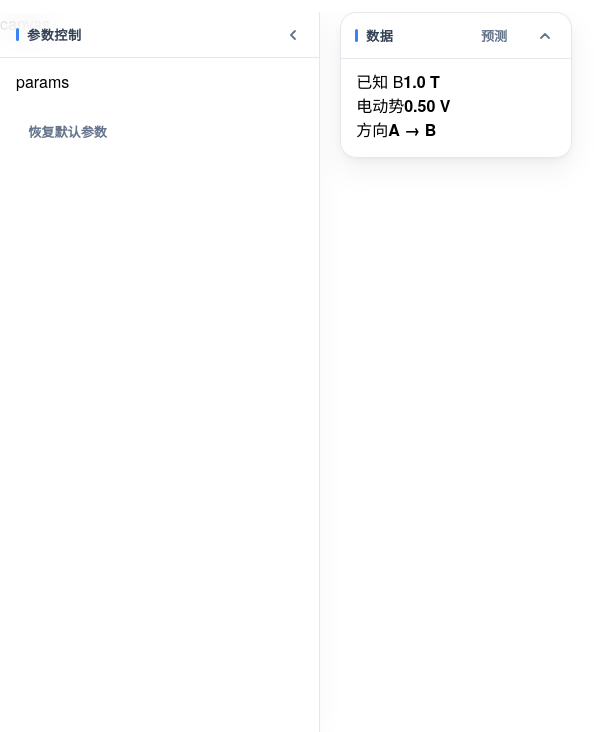
SceneLayout prediction mode › masks answers, reveals one on click and all on 全部揭晓, and masks again next round
This screenshot has width=604, height=732.
Expected: the text "0.50 V" is shown, [404,94,450,117]
Click the button "预测" at (494, 36), box [469,14,519,58]
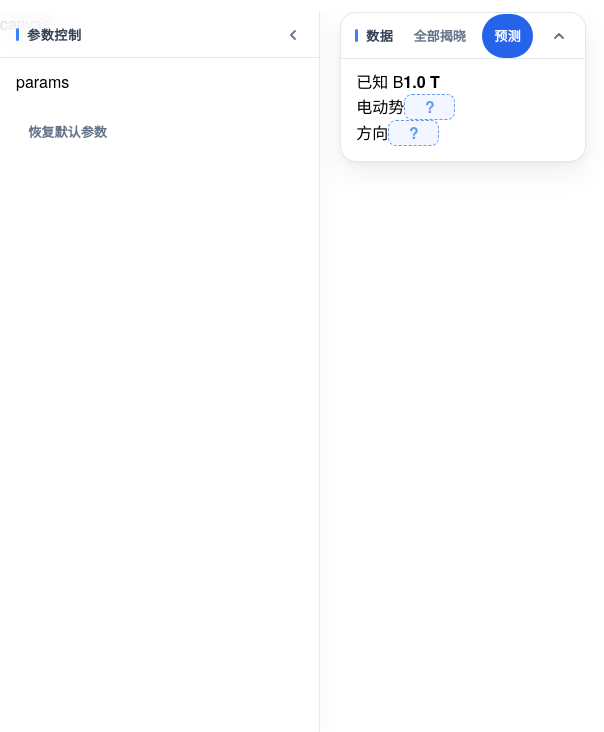
Expected: the text "1.0 T" is shown, [403,70,440,93]
Now the text "0.50 V" is gone
Now the number of buttons "?" is 2
Click the button "?" next to "电动势" at (430, 107), box [404,94,455,120]
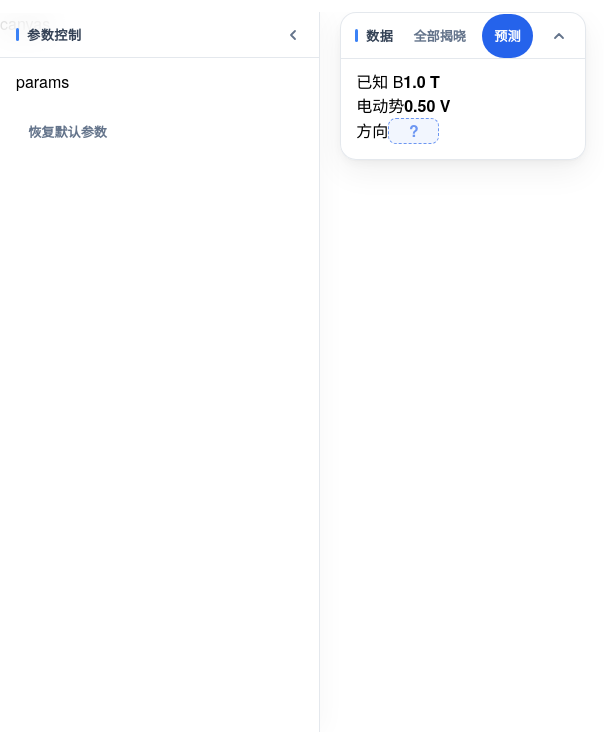
Expected: the text "A → B" is not shown
Now the text "0.50 V" is shown, box [404,94,450,117]
Click the button "全部揭晓" at (440, 36), box [401,14,478,58]
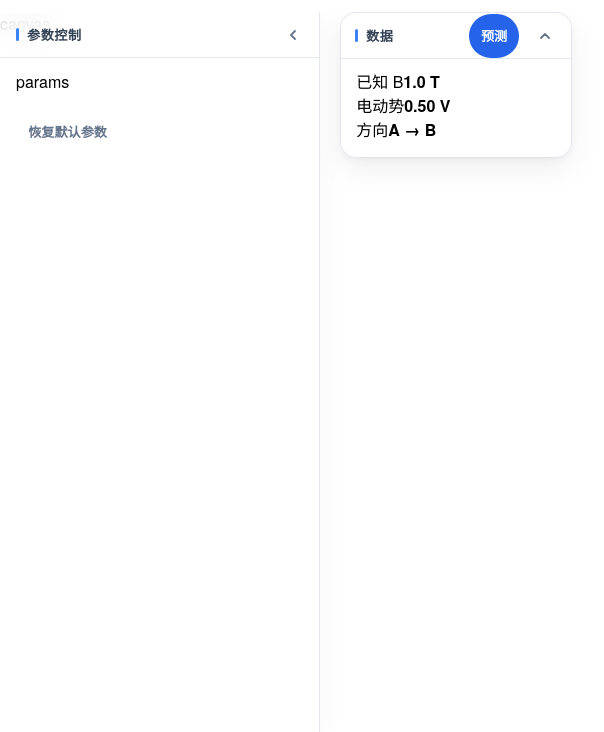
Now the text "A → B" is shown, box [388,118,436,141]
Off and on again starts a new round: everything is masked again.
Click the button "预测" at (494, 36), box [469,14,519,58]
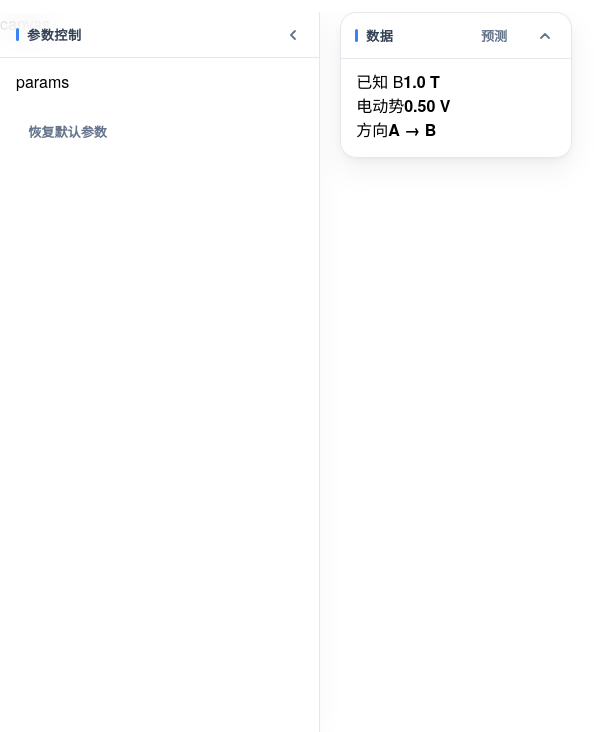
Click the button "预测" at (494, 36), box [469,14,519,58]
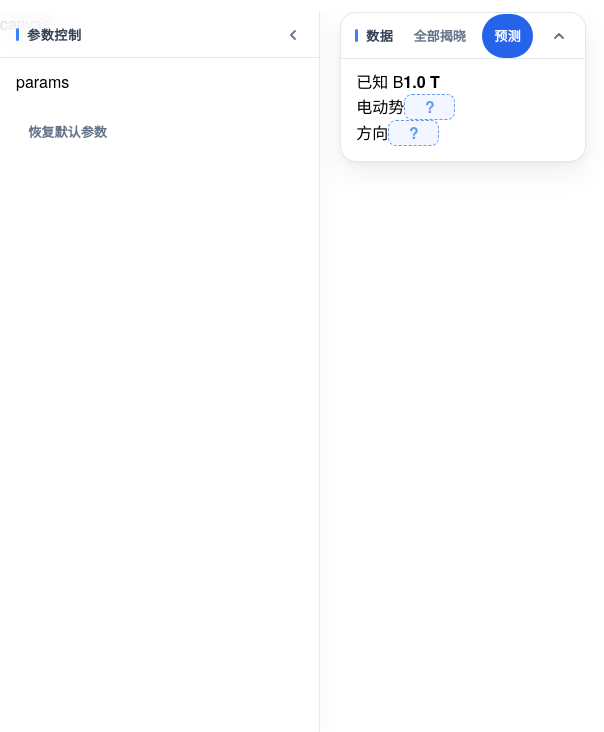
Now the number of buttons "?" is 2, box [404,94,455,120]; [388,120,439,146]
